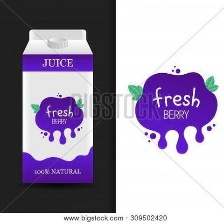carton: (18, 25, 99, 187)
